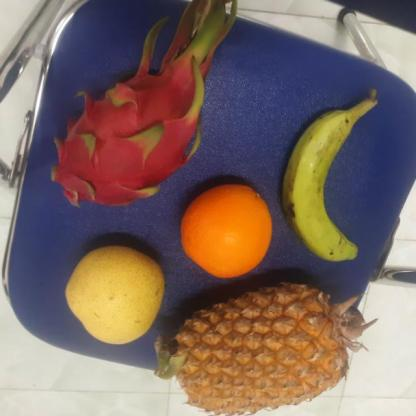banana: (278, 107, 366, 260)
guava: (61, 244, 166, 342)
pear: (177, 183, 275, 277)
pineapple: (158, 280, 352, 416)
pitaya: (50, 63, 211, 206)
